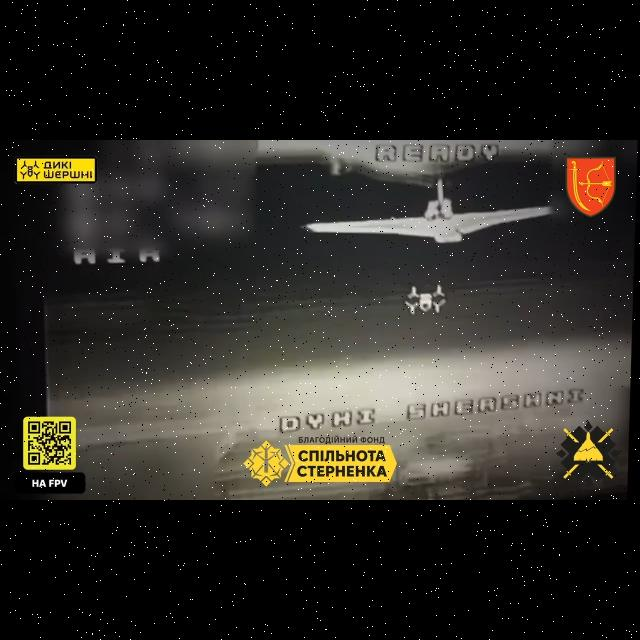Gerbera: (300, 178, 552, 246)
